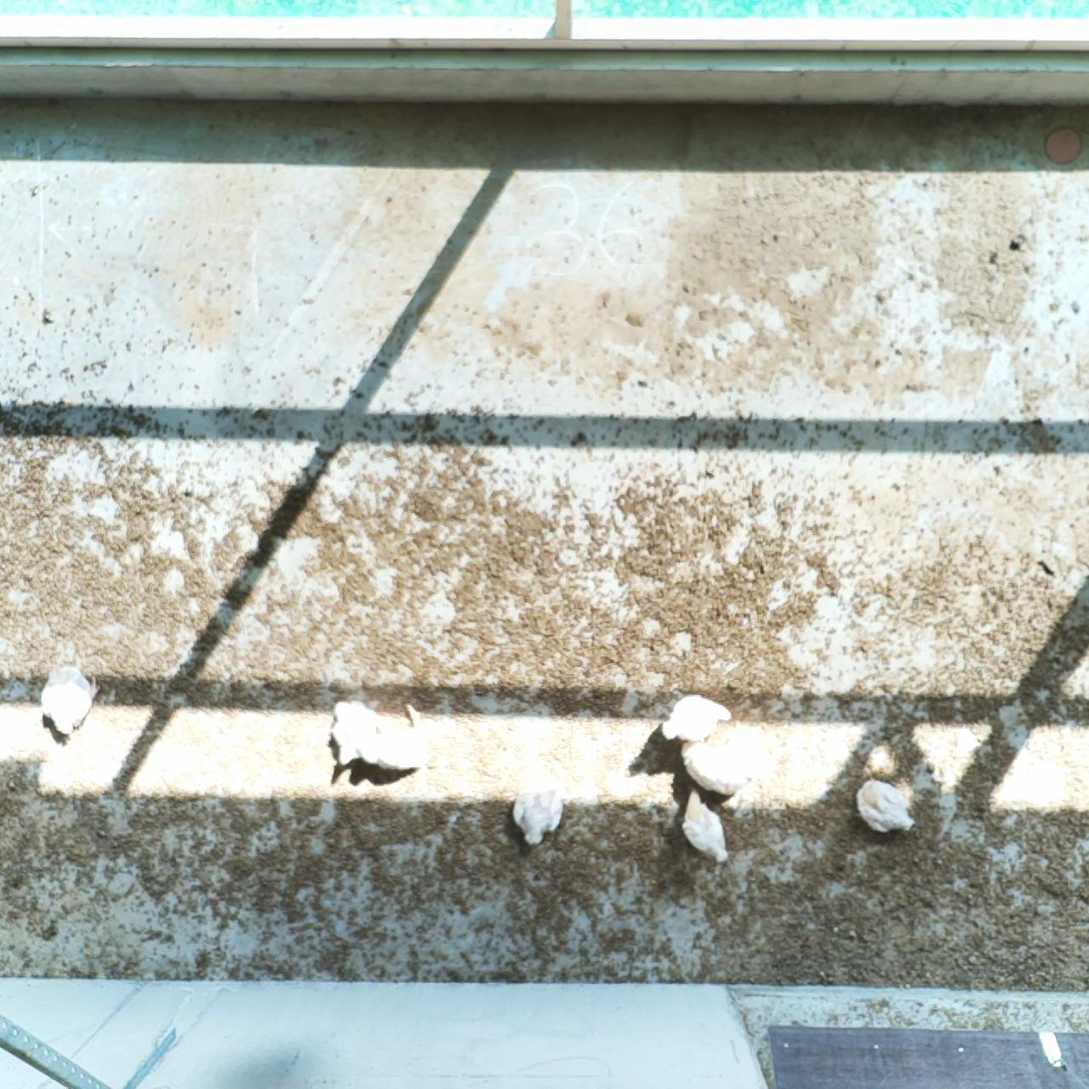chicken: (325, 697, 430, 779), (37, 661, 104, 741), (678, 736, 756, 799), (849, 770, 919, 840), (510, 767, 567, 848), (679, 787, 733, 867), (659, 692, 736, 747)
